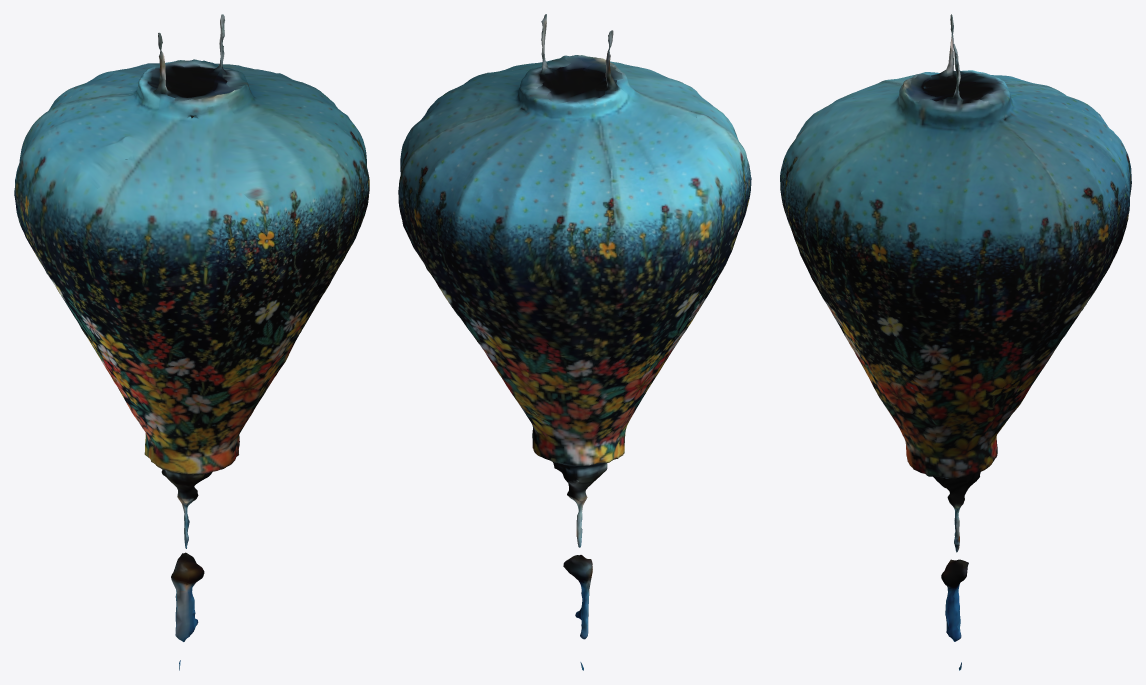
The model's file is HoiAnLantern.fbx.
3 views of the same model, side by side, from view 1: azimuth 30°, elevation 25°; view 2: azimuth 150°, elevation 25°; view 3: azimuth 270°, elevation 25° (orthographic).
Visible parts, largest first — view 1: HoiAnLantern; view 2: HoiAnLantern; view 3: HoiAnLantern.
Part boxes in pixels (x1=…): HoiAnLantern: x1=14, y1=14, x2=369, y2=670; HoiAnLantern: x1=398, y1=14, x2=751, y2=670; HoiAnLantern: x1=780, y1=14, x2=1131, y2=670.
Size of the model in its own units: 0.2681 by 0.55 by 0.2713.
